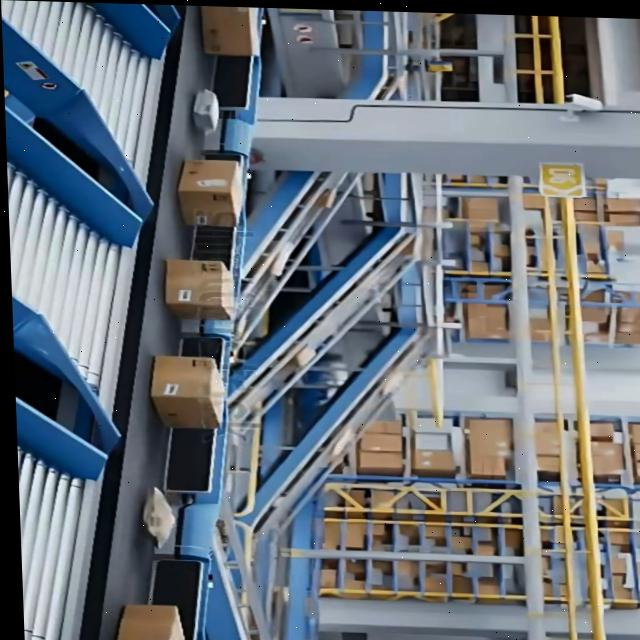product 1: (147, 354, 226, 430), (175, 158, 245, 228), (162, 259, 236, 321)
product 2: (190, 88, 221, 132)
